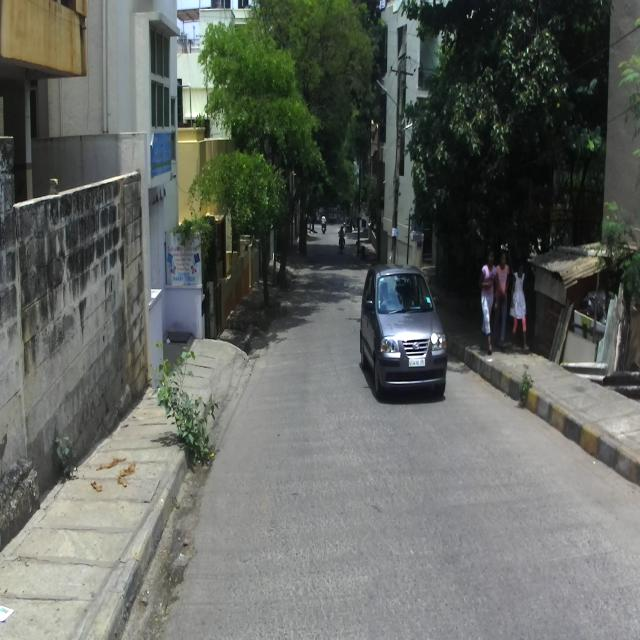car ahead at: (359, 262, 452, 408)
